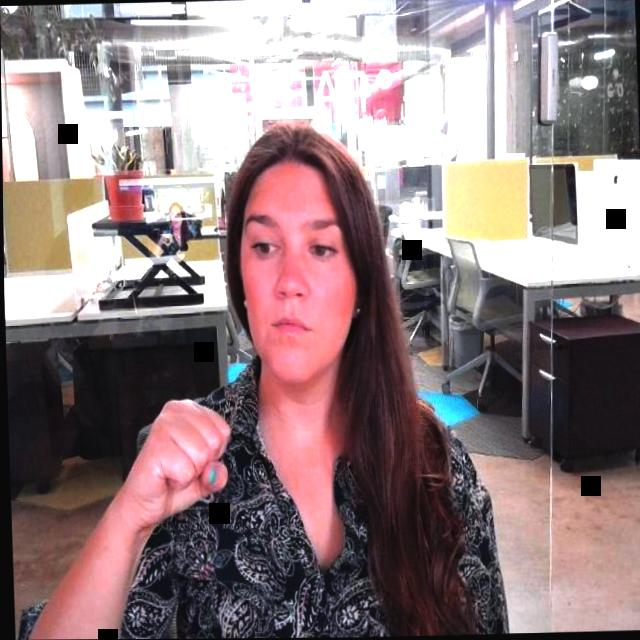Rock: (112, 385, 242, 538)
